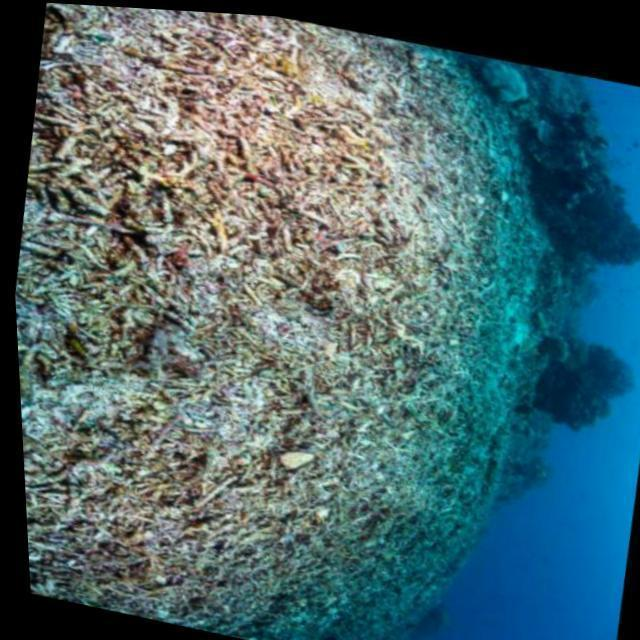Dead Coral: (102, 54, 534, 579)
